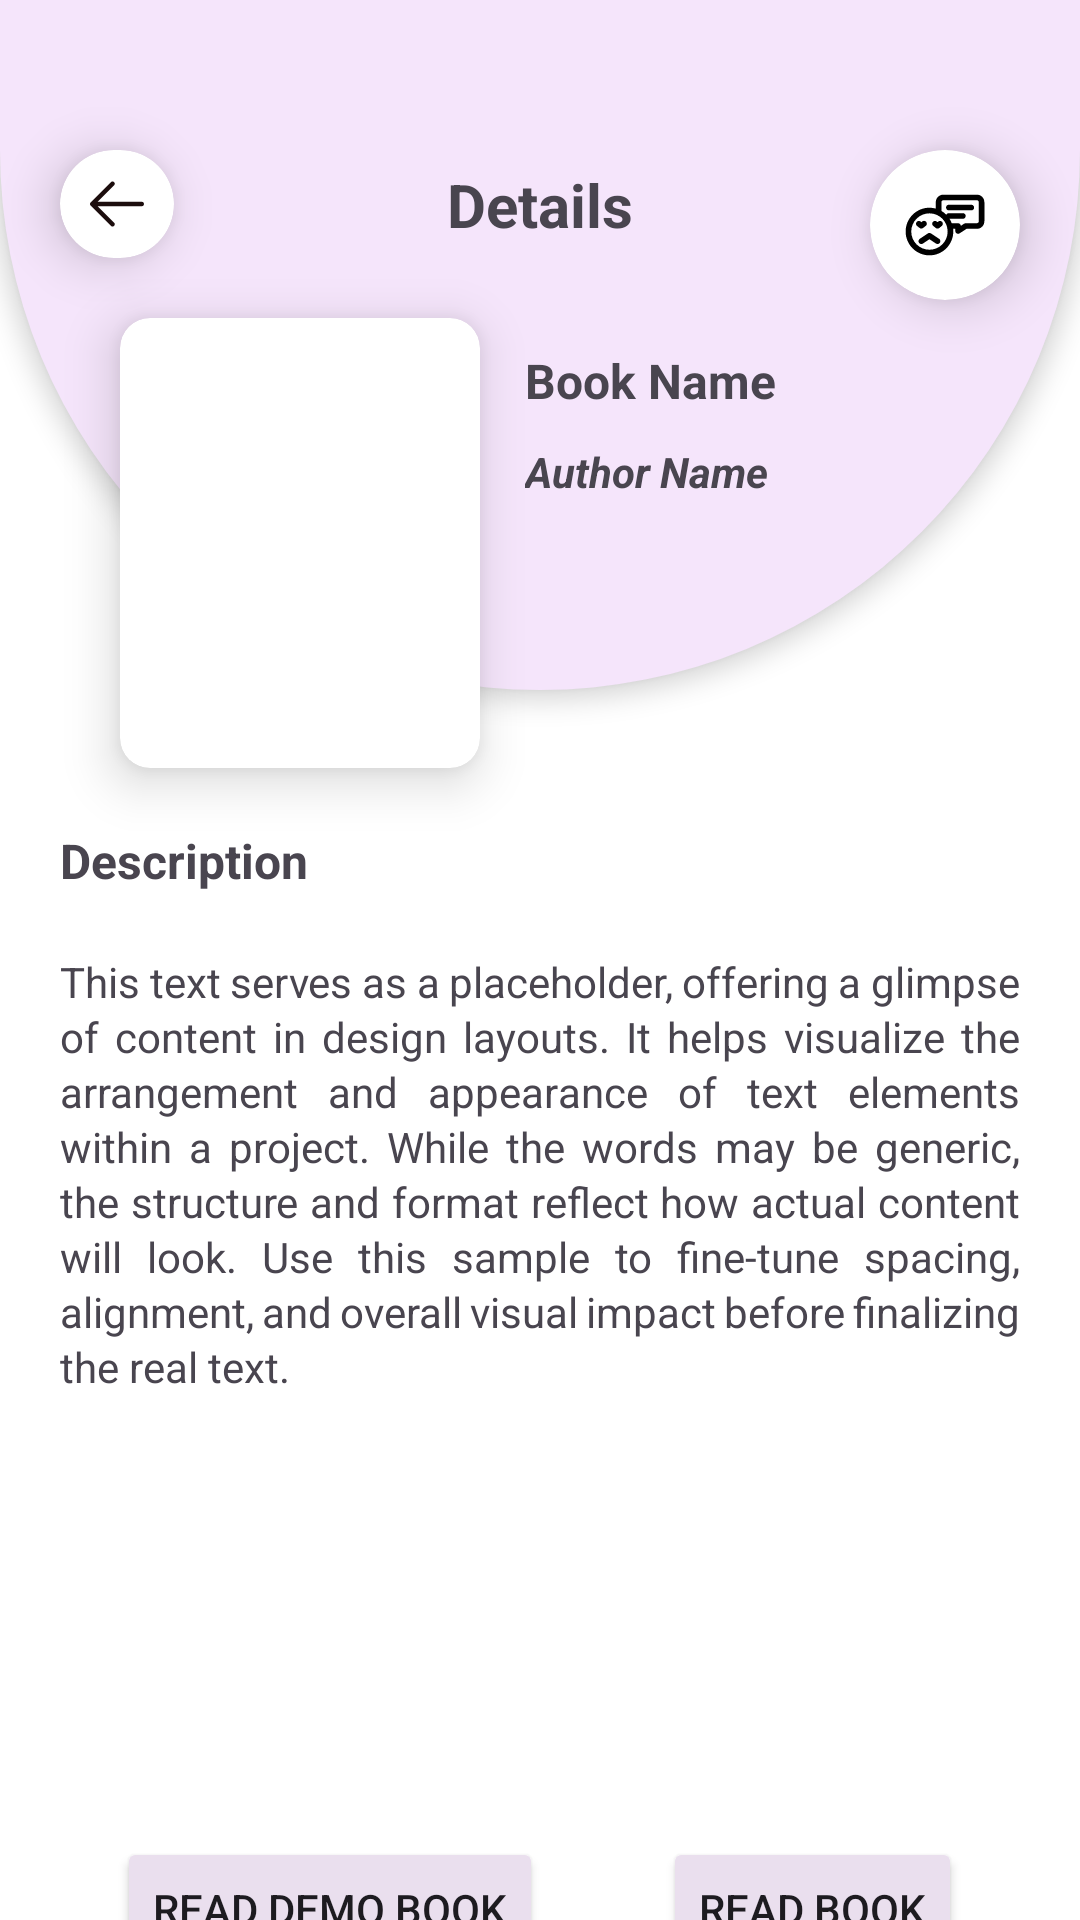

Icon click points for this 1080×1920 phone screenshot, format point (x, y):
back: point (117, 204)
review: point (945, 225)
